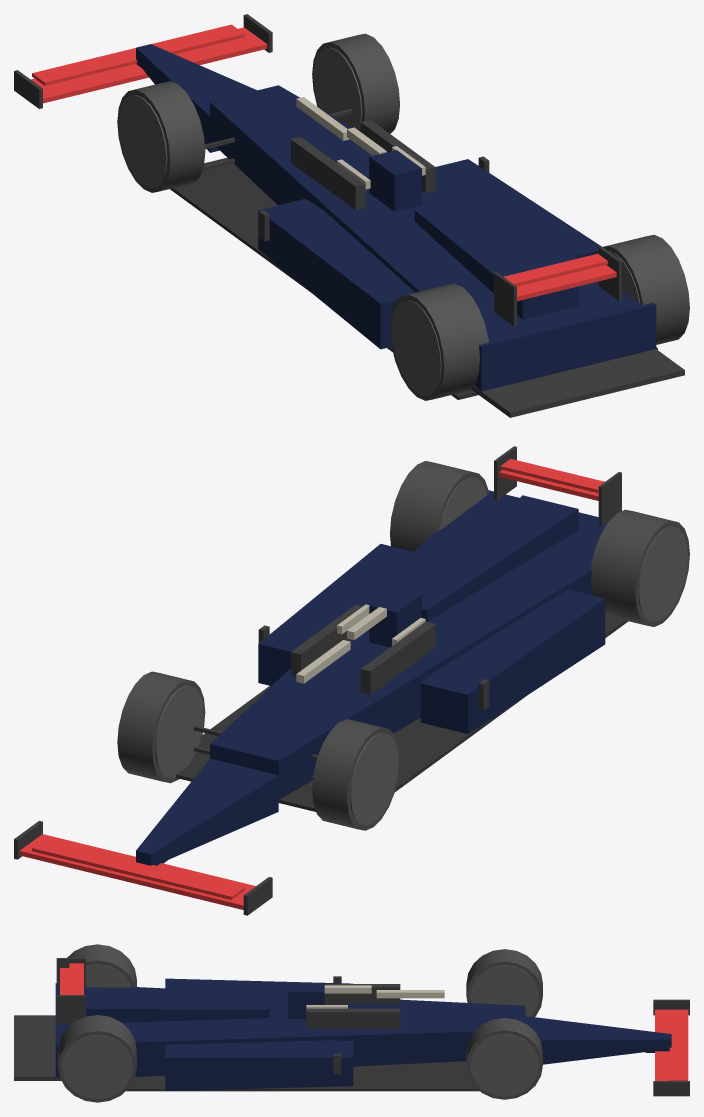
The model's file is f1_car.glb.
3 views of the same model, one above another, from view 1: azimuth 30°, elevation 25°; view 2: azimuth 150°, elevation 25°; view 3: azimuth 270°, elevation 25° (orthographic). The views are drawn at different scales.
Parts seen in each view (by area): view 1: monocoque, sidepod_left, diffuser, tyre_rear_left, engine_cover, tyre_rear_right, floor, sidepod_right, tyre_front_left, tyre_front_right, nose, wheel_rear_left (+13 smaller); view 2: monocoque, sidepod_left, nose, engine_cover, sidepod_right, tyre_rear_left, floor, tyre_front_left, tyre_front_right, tyre_rear_right, wheel_rear_left, wheel_front_left (+11 smaller); view 3: monocoque, sidepod_right, floor, nose, engine_cover, wheel_rear_right, wheel_front_right, diffuser, wheel_front_left, tyre_rear_right, cockpit_right, tyre_front_right (+16 smaller).
Part boxes in pixels (x1,y1,x2,y2): monocoque: (210, 85, 656, 391); sidepod_left: (258, 198, 415, 349); diffuser: (470, 349, 684, 417); tyre_rear_left: (390, 283, 488, 400); engine_cover: (414, 207, 578, 319); tyre_rear_right: (595, 234, 689, 344); floor: (170, 157, 657, 399); sidepod_right: (435, 159, 601, 258); tyre_front_left: (117, 81, 205, 192); tyre_front_right: (312, 33, 399, 133); nose: (136, 44, 256, 152); wheel_rear_left: (391, 300, 441, 395); monocoque: (210, 490, 608, 799); sidepod_left: (420, 589, 605, 733); nose: (136, 758, 278, 865); engine_cover: (422, 495, 578, 621); sidepod_right: (258, 544, 413, 685); tyre_rear_left: (590, 509, 689, 626); floor: (175, 615, 628, 811); tyre_front_left: (312, 719, 399, 830); tyre_front_right: (117, 671, 205, 783); tyre_rear_right: (390, 461, 488, 551); wheel_rear_left: (638, 526, 687, 621); wheel_front_left: (350, 733, 398, 825); monocoque: (55, 983, 525, 1076); sidepod_right: (165, 1040, 353, 1090); floor: (126, 1061, 479, 1091); nose: (525, 1016, 671, 1064); engine_cover: (84, 989, 269, 1022); wheel_rear_right: (62, 1034, 132, 1099); wheel_front_right: (470, 1034, 538, 1096); diffuser: (14, 1015, 61, 1080); wheel_front_left: (470, 965, 538, 1016); tyre_rear_right: (58, 1015, 136, 1102); cockpit_right: (306, 1008, 400, 1028); tyre_front_right: (466, 1018, 542, 1099).
Bounding box in the file's own units: 1.98 × 0.868 × 6.48.
